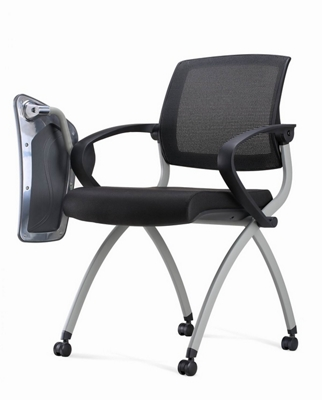desk_074.jpg: (4, 35, 316, 382)
